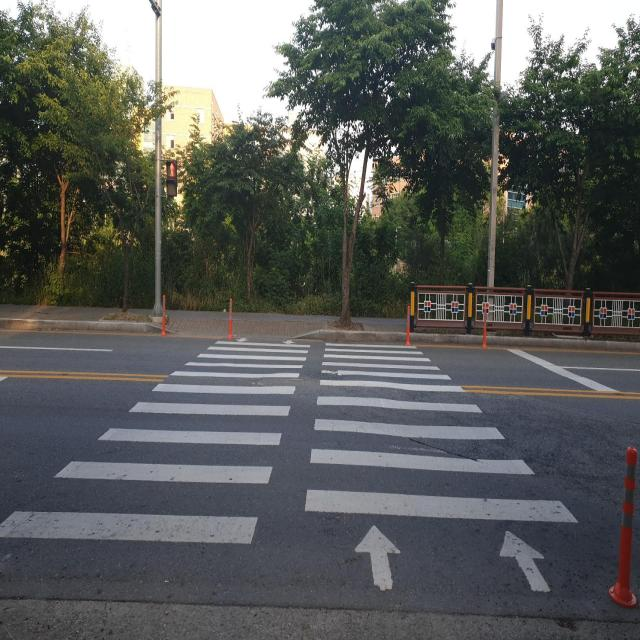빨간불: (164, 158, 180, 201)
횡단보도: (0, 338, 581, 596)
